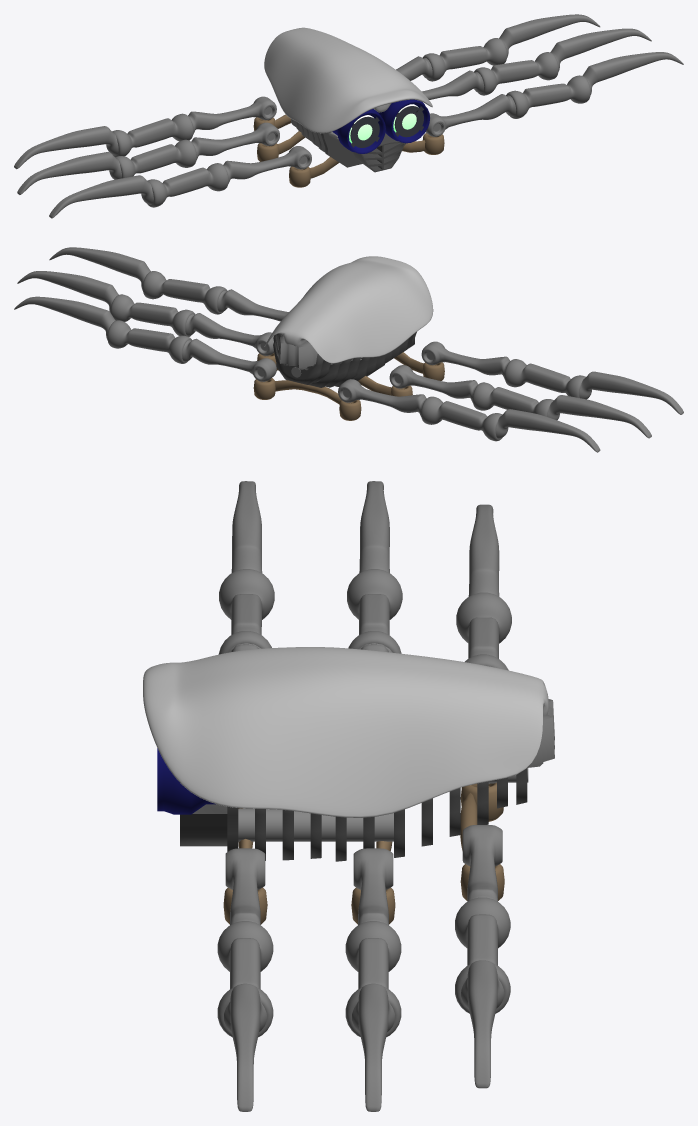
File: aranha_pernalonga.glb
3 views of the same model, one above another, from view 1: azimuth 30°, elevation 25°; view 2: azimuth 150°, elevation 25°; view 3: azimuth 270°, elevation 25° (orthographic). The views are drawn at different scales.
Visible parts, largest first — view 1: Arainha_Pernas_longo_div:Layer1, Arainha_Pernas_longo_div:Layer3_(1), Arainha_Pernas_longo_div:Layer3_(4), Arainha_Pernas_longo_div:Layer3_(2), Arainha_Pernas_longo_div:Layer3_(3), Arainha_Pernas_longo_div:Layer3_(6), Arainha_Pernas_longo_div:Layer3_(5), Arainha_Pernas_longo_div:Layer4_(4), Arainha_Pernas_longo_div:Layer4_(6), Arainha_Pernas_longo_div:Layer4_(5), Arainha_Pernas_longo_div:Layer2_(1), Arainha_Pernas_longo_div:Layer4_(2) (+7 smaller); view 2: Arainha_Pernas_longo_div:Layer1, Arainha_Pernas_longo_div:Layer3_(1), Arainha_Pernas_longo_div:Layer3_(3), Arainha_Pernas_longo_div:Layer3_(6), Arainha_Pernas_longo_div:Layer3_(2), Arainha_Pernas_longo_div:Layer3_(4), Arainha_Pernas_longo_div:Layer4_(6), Arainha_Pernas_longo_div:Layer4_(4), Arainha_Pernas_longo_div:Layer2_(3), Arainha_Pernas_longo_div:Layer4_(5), Arainha_Pernas_longo_div:Layer3_(5), Arainha_Pernas_longo_div:Layer2_(2) (+7 smaller); view 3: Arainha_Pernas_longo_div:Layer1, Arainha_Pernas_longo_div:Layer3_(1), Arainha_Pernas_longo_div:Layer3_(2), Arainha_Pernas_longo_div:Layer3_(3), Arainha_Pernas_longo_div:Layer3_(4), Arainha_Pernas_longo_div:Layer3_(5), Arainha_Pernas_longo_div:Layer4_(3), Arainha_Pernas_longo_div:Layer4_(2), Arainha_Pernas_longo_div:Layer4_(1), Arainha_Pernas_longo_div:Layer3_(6), Arainha_Pernas_longo_div:Layer2_(1), Arainha_Pernas_longo_div:Layer2_(2) (+4 smaller).
Boxes of the visible parts, bbox=[...] form: Arainha_Pernas_longo_div:Layer1: bbox=[253, 27, 444, 187]; Arainha_Pernas_longo_div:Layer3_(1): bbox=[506, 75, 590, 118]; Arainha_Pernas_longo_div:Layer3_(4): bbox=[147, 163, 228, 207]; Arainha_Pernas_longo_div:Layer3_(2): bbox=[474, 52, 558, 95]; Arainha_Pernas_longo_div:Layer3_(3): bbox=[422, 38, 507, 81]; Arainha_Pernas_longo_div:Layer3_(6): bbox=[112, 113, 193, 157]; Arainha_Pernas_longo_div:Layer3_(5): bbox=[115, 139, 196, 178]; Arainha_Pernas_longo_div:Layer4_(4): bbox=[49, 175, 153, 218]; Arainha_Pernas_longo_div:Layer4_(6): bbox=[14, 126, 118, 169]; Arainha_Pernas_longo_div:Layer4_(5): bbox=[17, 152, 121, 194]; Arainha_Pernas_longo_div:Layer2_(1): bbox=[425, 94, 516, 136]; Arainha_Pernas_longo_div:Layer4_(2): bbox=[550, 28, 651, 71]; Arainha_Pernas_longo_div:Layer1: bbox=[253, 256, 444, 420]; Arainha_Pernas_longo_div:Layer3_(1): bbox=[142, 271, 227, 314]; Arainha_Pernas_longo_div:Layer3_(3): bbox=[107, 320, 192, 363]; Arainha_Pernas_longo_div:Layer3_(6): bbox=[421, 396, 502, 441]; Arainha_Pernas_longo_div:Layer3_(2): bbox=[110, 294, 195, 336]; Arainha_Pernas_longo_div:Layer3_(4): bbox=[504, 359, 585, 397]; Arainha_Pernas_longo_div:Layer4_(6): bbox=[495, 409, 600, 452]; Arainha_Pernas_longo_div:Layer4_(4): bbox=[579, 371, 683, 414]; Arainha_Pernas_longo_div:Layer2_(3): bbox=[182, 338, 276, 381]; Arainha_Pernas_longo_div:Layer4_(5): bbox=[547, 395, 651, 438]; Arainha_Pernas_longo_div:Layer3_(5): bbox=[472, 382, 553, 416]; Arainha_Pernas_longo_div:Layer2_(2): bbox=[185, 313, 274, 355]; Arainha_Pernas_longo_div:Layer1: bbox=[143, 647, 554, 924]; Arainha_Pernas_longo_div:Layer3_(1): bbox=[217, 921, 273, 1037]; Arainha_Pernas_longo_div:Layer3_(2): bbox=[345, 921, 401, 1036]; Arainha_Pernas_longo_div:Layer3_(3): bbox=[455, 897, 510, 1013]; Arainha_Pernas_longo_div:Layer3_(4): bbox=[218, 569, 274, 654]; Arainha_Pernas_longo_div:Layer3_(5): bbox=[347, 569, 402, 653]; Arainha_Pernas_longo_div:Layer4_(3): bbox=[461, 960, 504, 1088]; Arainha_Pernas_longo_div:Layer4_(2): bbox=[352, 983, 394, 1111]; Arainha_Pernas_longo_div:Layer4_(1): bbox=[224, 983, 266, 1111]; Arainha_Pernas_longo_div:Layer3_(6): bbox=[456, 592, 511, 670]; Arainha_Pernas_longo_div:Layer2_(1): bbox=[225, 848, 265, 925]; Arainha_Pernas_longo_div:Layer2_(2): bbox=[353, 848, 393, 925].
Size of the model in its own units: 26.25 by 3.89 by 7.41.
